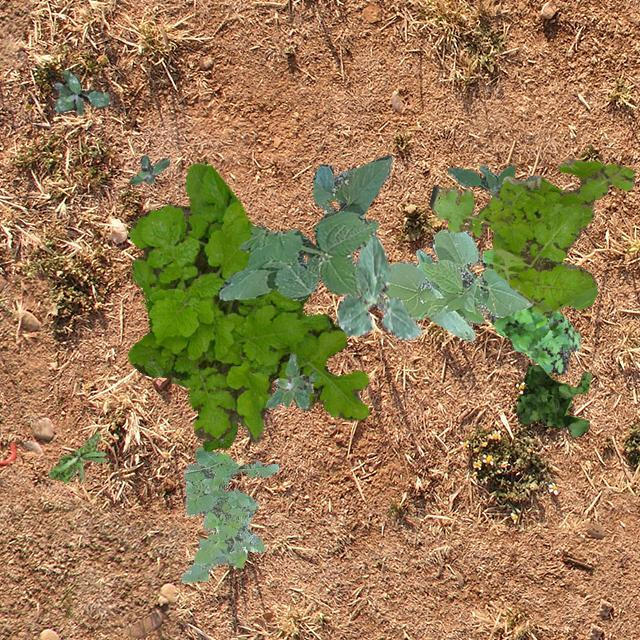crop: (382, 228, 532, 340), (304, 154, 392, 278), (334, 230, 420, 338)
weed: (126, 160, 368, 442), (428, 158, 634, 314), (216, 210, 378, 300), (180, 446, 278, 580), (480, 248, 580, 374), (516, 362, 590, 436), (264, 352, 316, 408), (446, 164, 540, 194), (48, 432, 104, 482), (53, 68, 109, 114), (202, 416, 244, 450), (128, 154, 168, 183)
